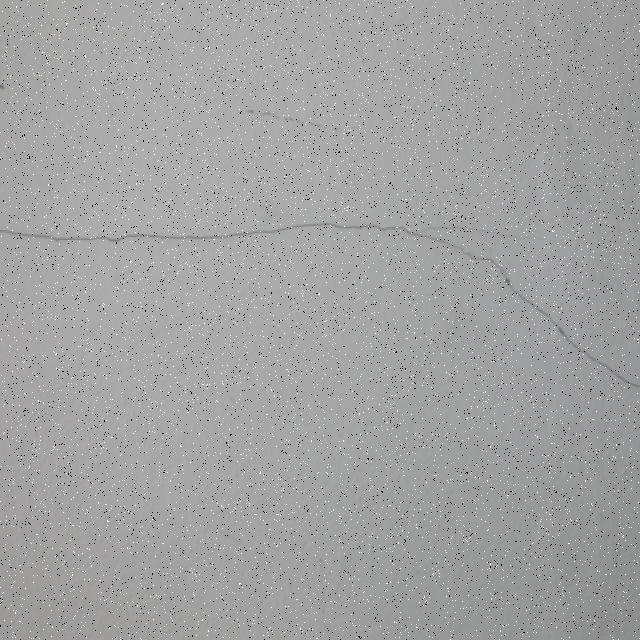minor crack: (2, 360, 638, 640), (448, 245, 535, 298)
moderate crack: (512, 297, 632, 389)
severe crack: (5, 218, 637, 395), (234, 103, 461, 143), (4, 220, 386, 243)
